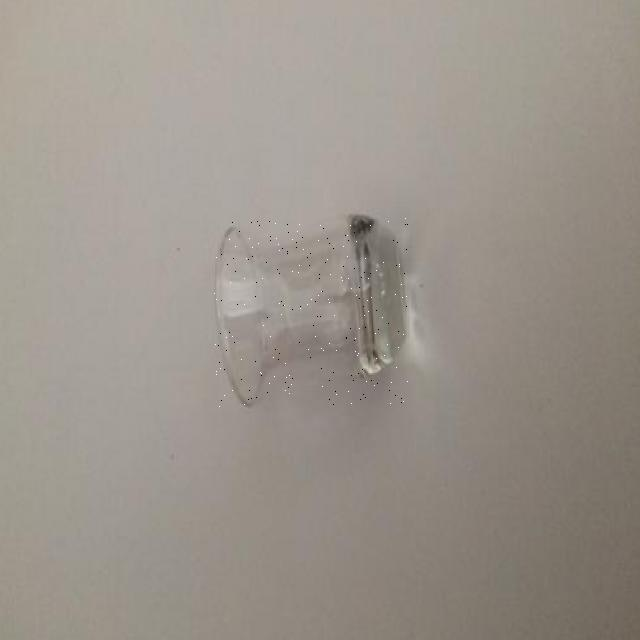glass: (214, 218, 408, 407)
